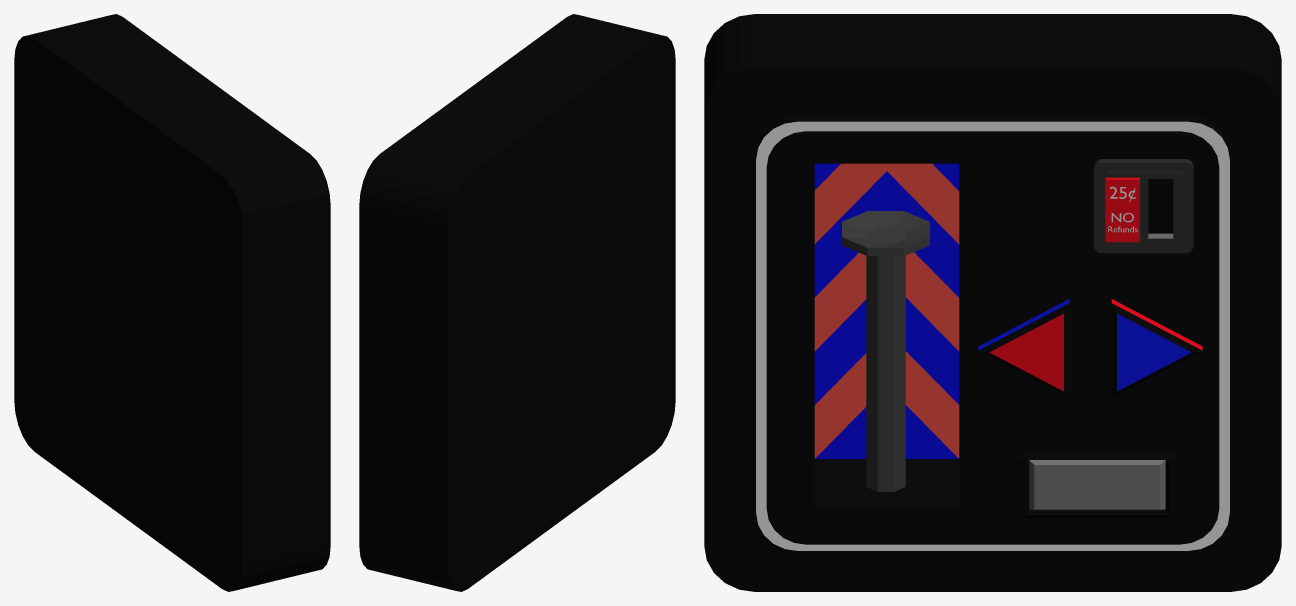
File: PlayerSelectScreenNewV6.fbx
3 renders of one model, left to right at view 1: azimuth 30°, elevation 25°; view 2: azimuth 150°, elevation 25°; view 3: azimuth 270°, elevation 25°, orthographic. The views are drawn at different scales.
Parts seen in each view (by area): view 1: Main; view 2: Main; view 3: Main, Launcher, ReadyButton, Refunds, Cube, Cube.003, Cube.006, Cube.004, Cube.005, Right, Left, Cube.008 (+1 smaller).
Boxes of the visible parts, x1,y1,x2,y2 form: Main: (14,14,330,591); Main: (359,14,675,591); Main: (704,14,1281,591); Launcher: (842,211,929,491); ReadyButton: (1015,453,1179,517); Refunds: (1093,159,1193,253); Cube: (814,351,959,458); Cube.003: (814,297,959,404); Cube.006: (814,163,959,244); Cube.004: (814,252,959,351); Cube.005: (814,171,959,297); Right: (1111,299,1202,397); Left: (978,299,1069,398); Cube.008: (815,405,958,458).
Bounding box in the file's own units: 58.13 × 200 × 200.
